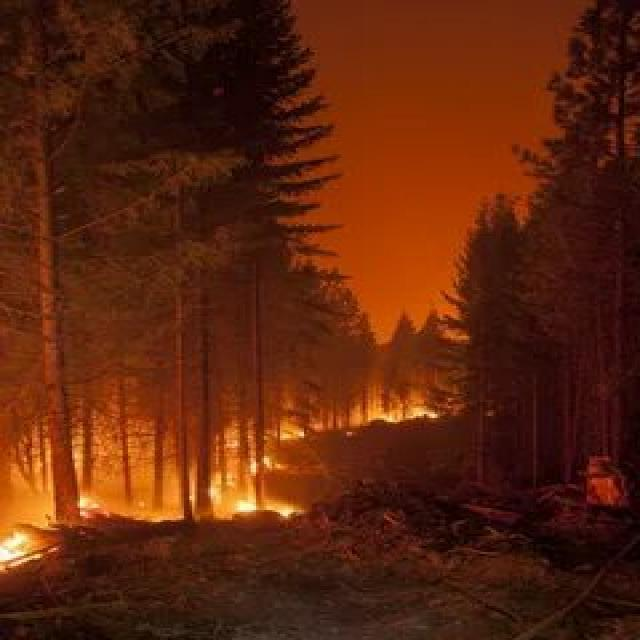Fire: (0, 456, 315, 619)
